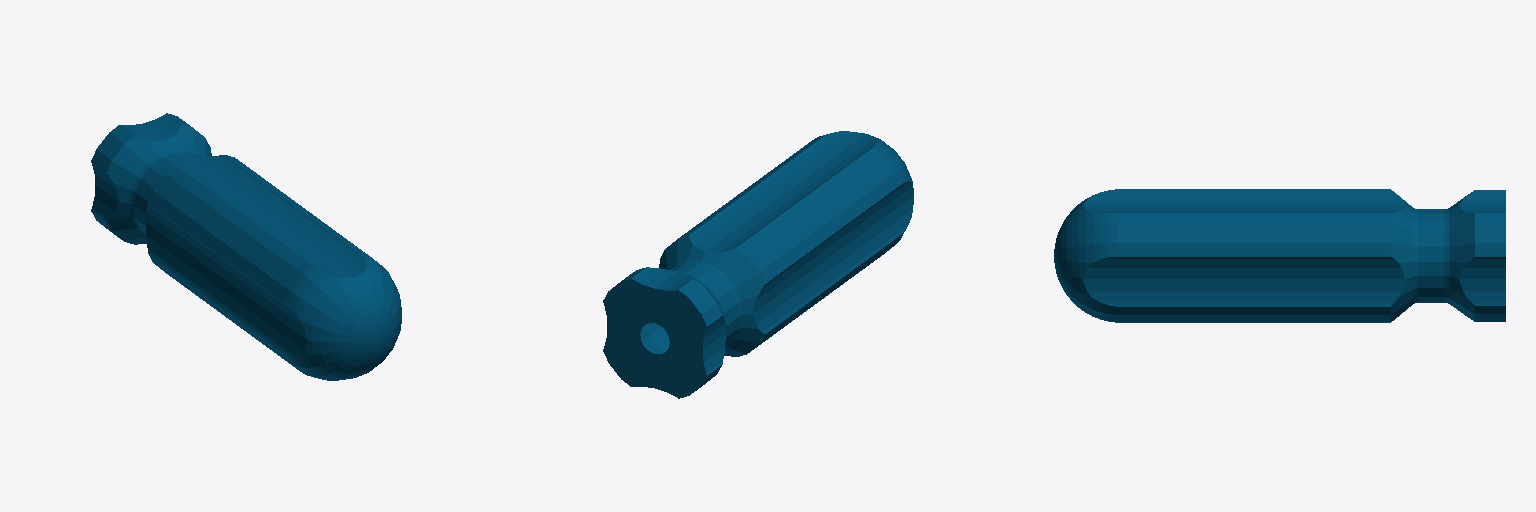
The model's file is SDHandle.OBJ.
3 views of the same model, side by side, from view 1: azimuth 30°, elevation 25°; view 2: azimuth 150°, elevation 25°; view 3: azimuth 270°, elevation 25° (orthographic).
Visible parts, largest first — view 1: /ambf/env/SDHandle_SDHandle_/ambf/env/SDHandle_SDHandle; view 2: /ambf/env/SDHandle_SDHandle_/ambf/env/SDHandle_SDHandle; view 3: /ambf/env/SDHandle_SDHandle_/ambf/env/SDHandle_SDHandle.
Boxes of the visible parts, <box> form: /ambf/env/SDHandle_SDHandle_/ambf/env/SDHandle_SDHandle: <box>91,113,401,380</box>; /ambf/env/SDHandle_SDHandle_/ambf/env/SDHandle_SDHandle: <box>603,131,913,398</box>; /ambf/env/SDHandle_SDHandle_/ambf/env/SDHandle_SDHandle: <box>1054,189,1505,322</box>.
Size of the model in its own units: 0.15 by 0.15 by 0.5573.